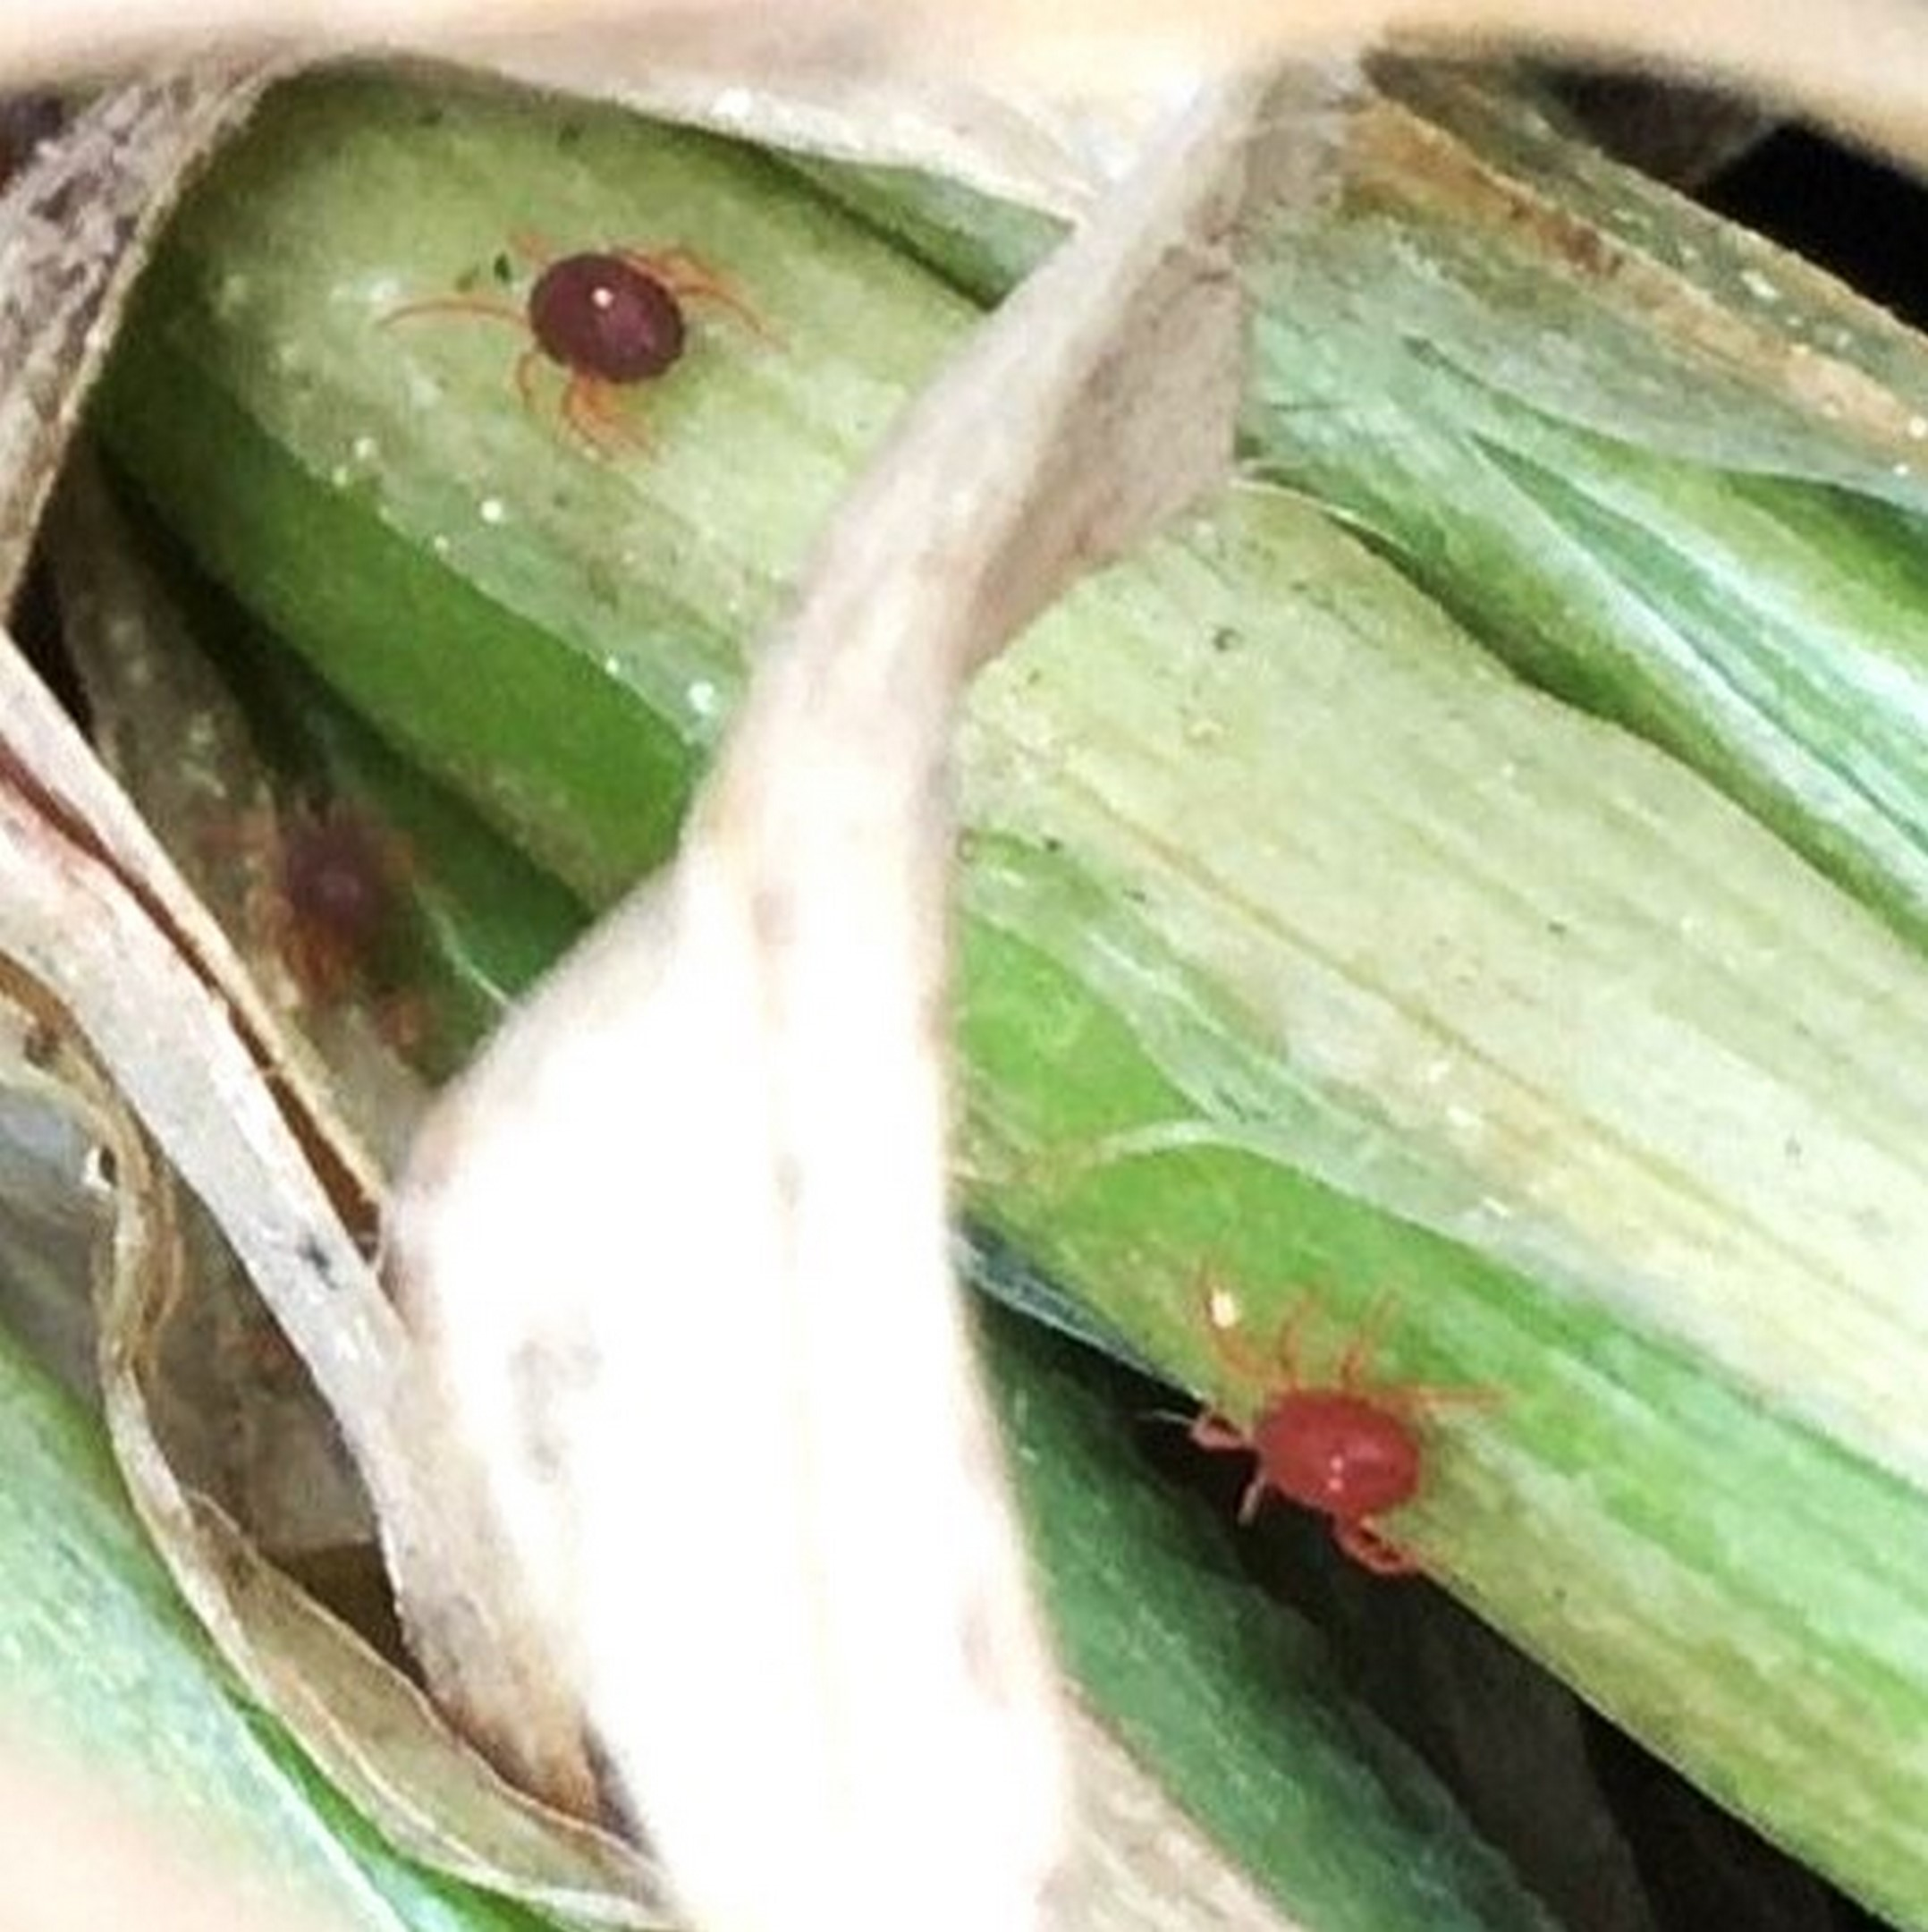Wheat Red Spider: (1133, 1249, 1502, 1632), (350, 177, 809, 480)
